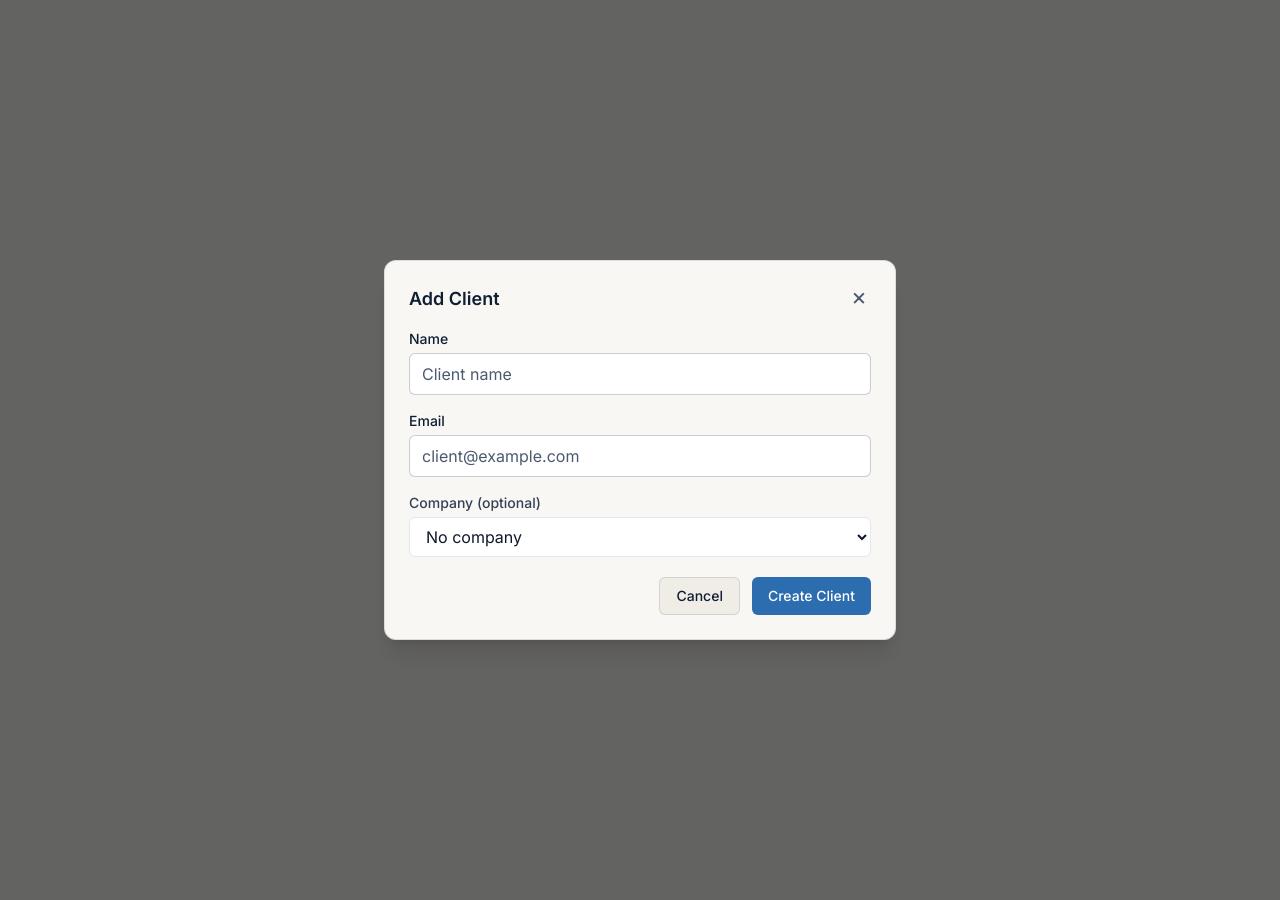
Scenario: AddClientModal › surfaces a duplicate-email error from the API
Type "Jane Doe" into the field labelled "Name". click: {"x": 640, "y": 374}
box: [409, 353, 871, 395]
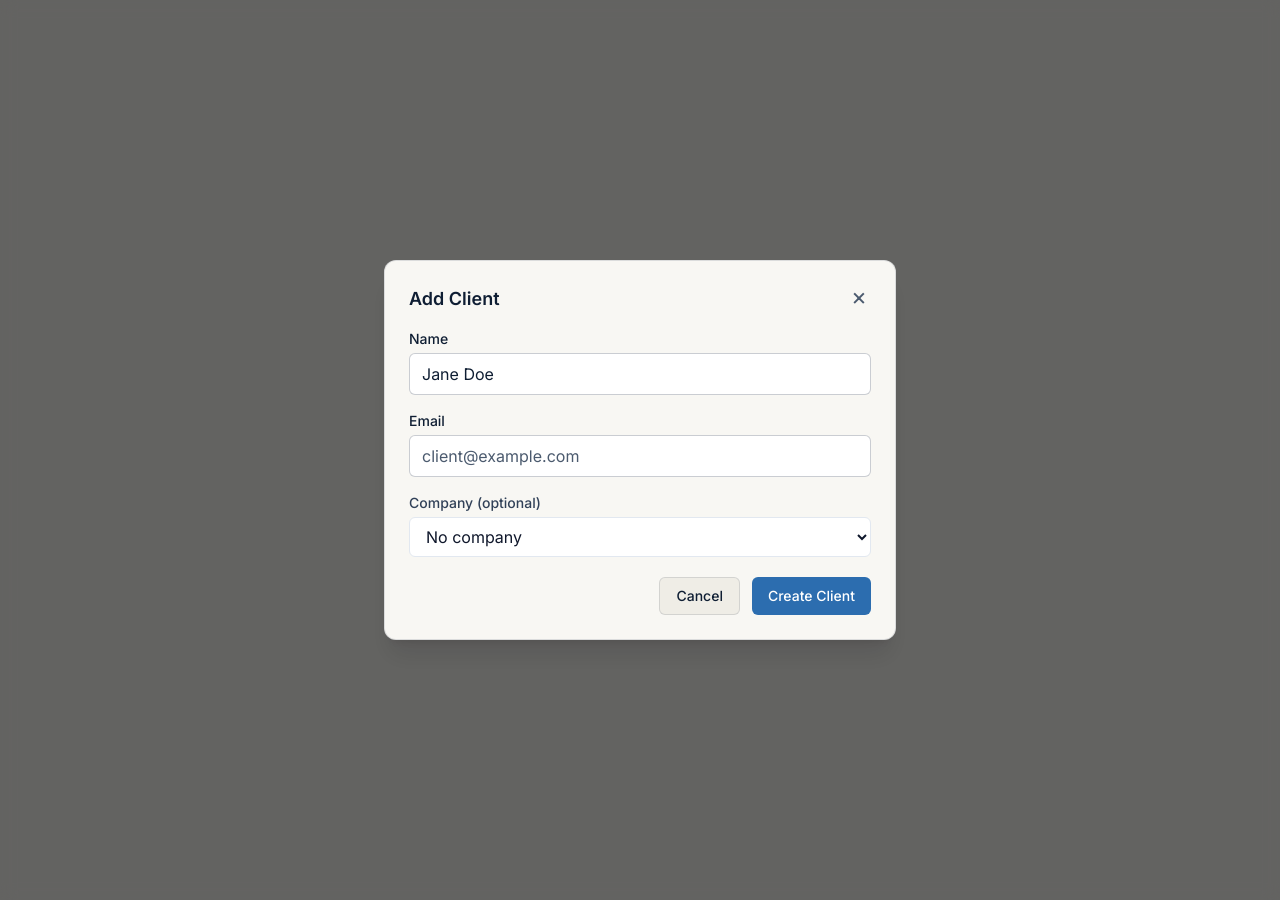
Type "jane@example.com" into the field labelled "Email". click: {"x": 640, "y": 456}
box: [409, 435, 871, 477]
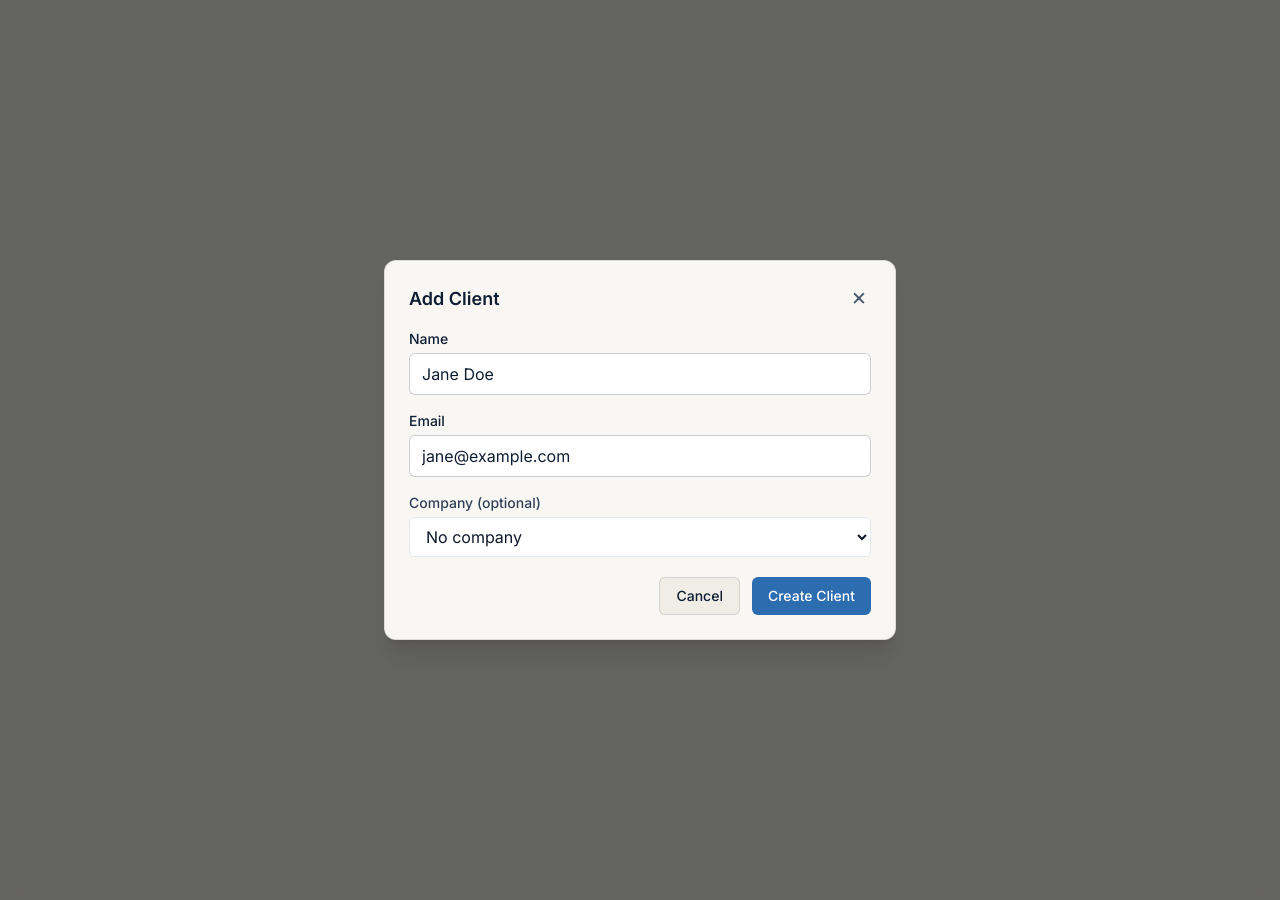
Click the button "Create Client". click: {"x": 812, "y": 596}
box: [752, 577, 871, 615]
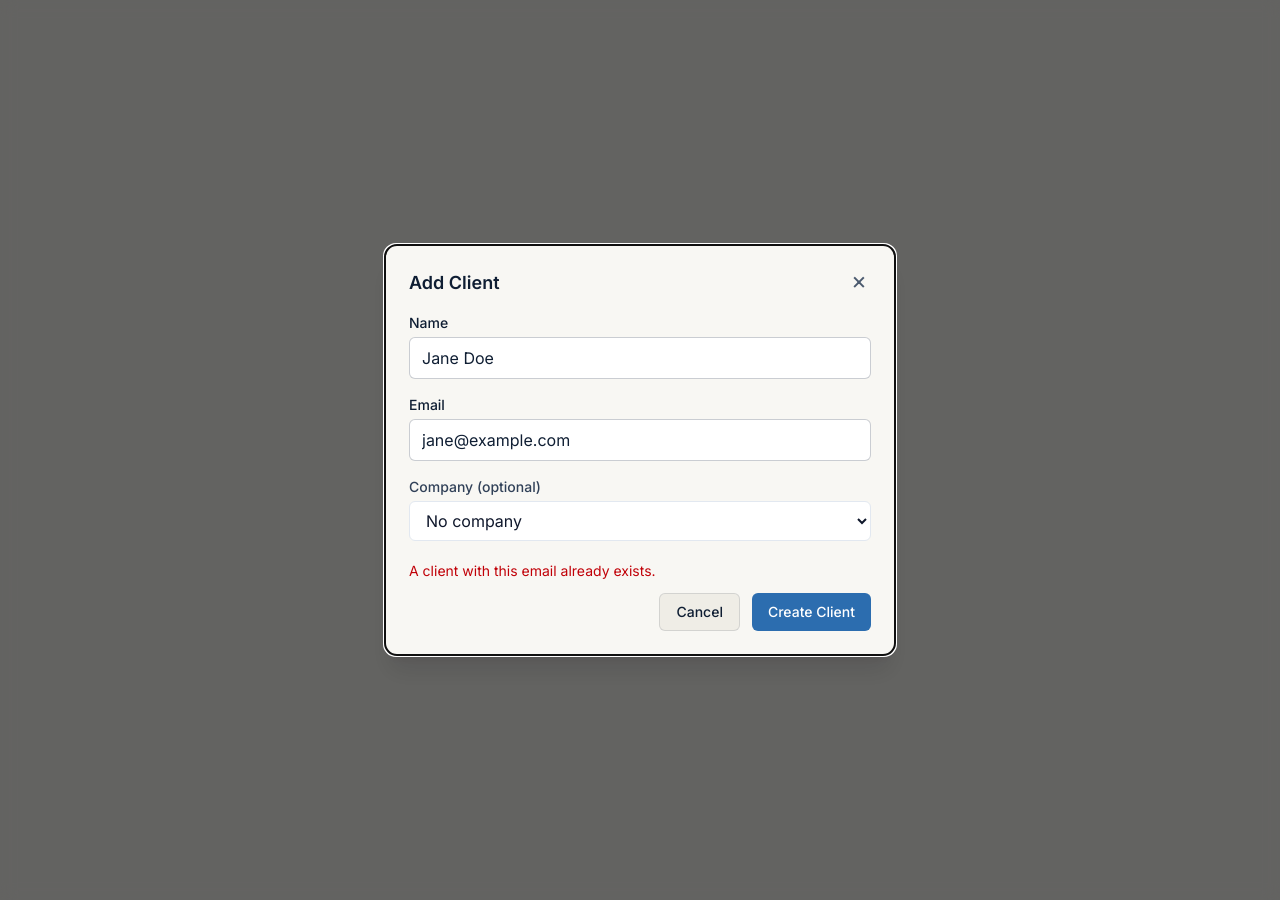
Check: the message shows "already exists", box [409, 562, 656, 579]
